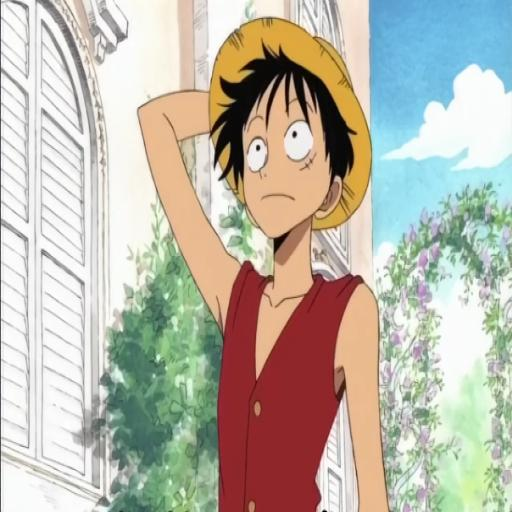Luffy: (152, 0, 404, 512)
